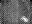person: (22, 14, 28, 23)
